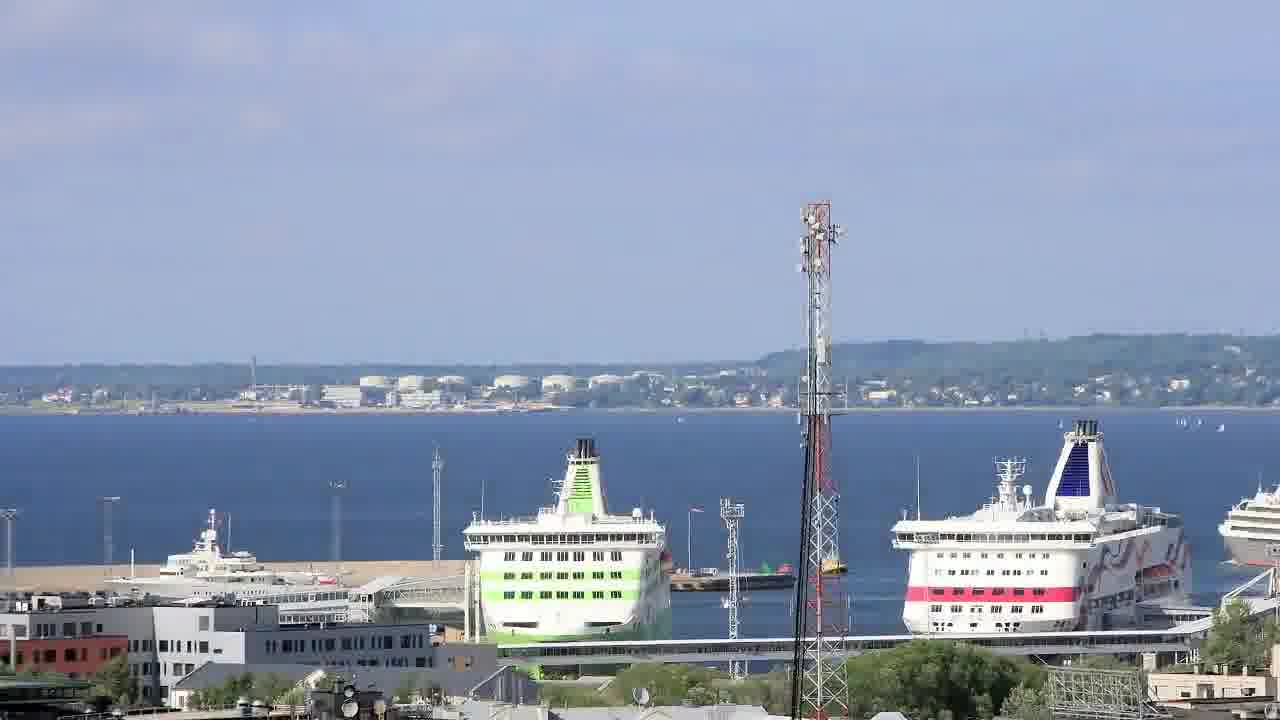type-0: (802, 539, 855, 589)
type-3: (868, 415, 1225, 638), (436, 434, 694, 670), (92, 511, 354, 612), (1235, 465, 1279, 608)
